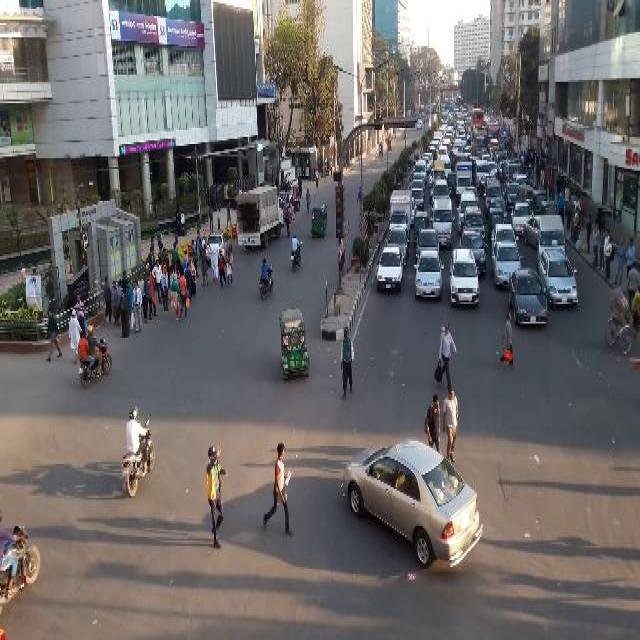bike: (2, 512, 42, 603), (121, 404, 156, 502), (77, 324, 115, 382), (259, 257, 276, 300), (291, 233, 303, 274)
vehicle: (345, 436, 485, 573), (235, 186, 285, 250), (604, 284, 638, 362), (538, 246, 578, 308), (280, 304, 310, 381), (510, 269, 548, 327), (450, 246, 481, 312), (492, 241, 523, 294), (416, 250, 444, 303), (376, 246, 405, 294), (431, 198, 456, 252), (458, 228, 488, 272), (389, 189, 412, 237), (539, 213, 566, 252), (384, 227, 410, 266), (458, 190, 480, 236), (205, 230, 234, 264), (462, 207, 487, 236), (456, 161, 474, 200), (512, 203, 535, 233), (492, 223, 519, 248), (485, 179, 503, 214), (523, 216, 540, 246), (415, 212, 430, 246), (505, 157, 524, 183), (312, 206, 327, 238), (472, 127, 488, 156), (475, 159, 490, 188), (504, 182, 520, 208), (486, 119, 500, 146), (533, 188, 547, 213), (489, 207, 504, 230), (434, 158, 446, 185), (414, 159, 428, 182), (542, 199, 559, 215), (440, 154, 452, 175), (412, 180, 426, 196), (448, 170, 456, 198), (411, 188, 423, 206), (472, 109, 485, 125), (515, 174, 529, 188), (423, 152, 434, 166), (437, 145, 447, 159), (429, 140, 439, 154), (453, 139, 463, 151), (434, 133, 442, 143), (443, 138, 451, 148), (460, 134, 467, 145), (418, 117, 423, 130), (388, 140, 392, 150)
